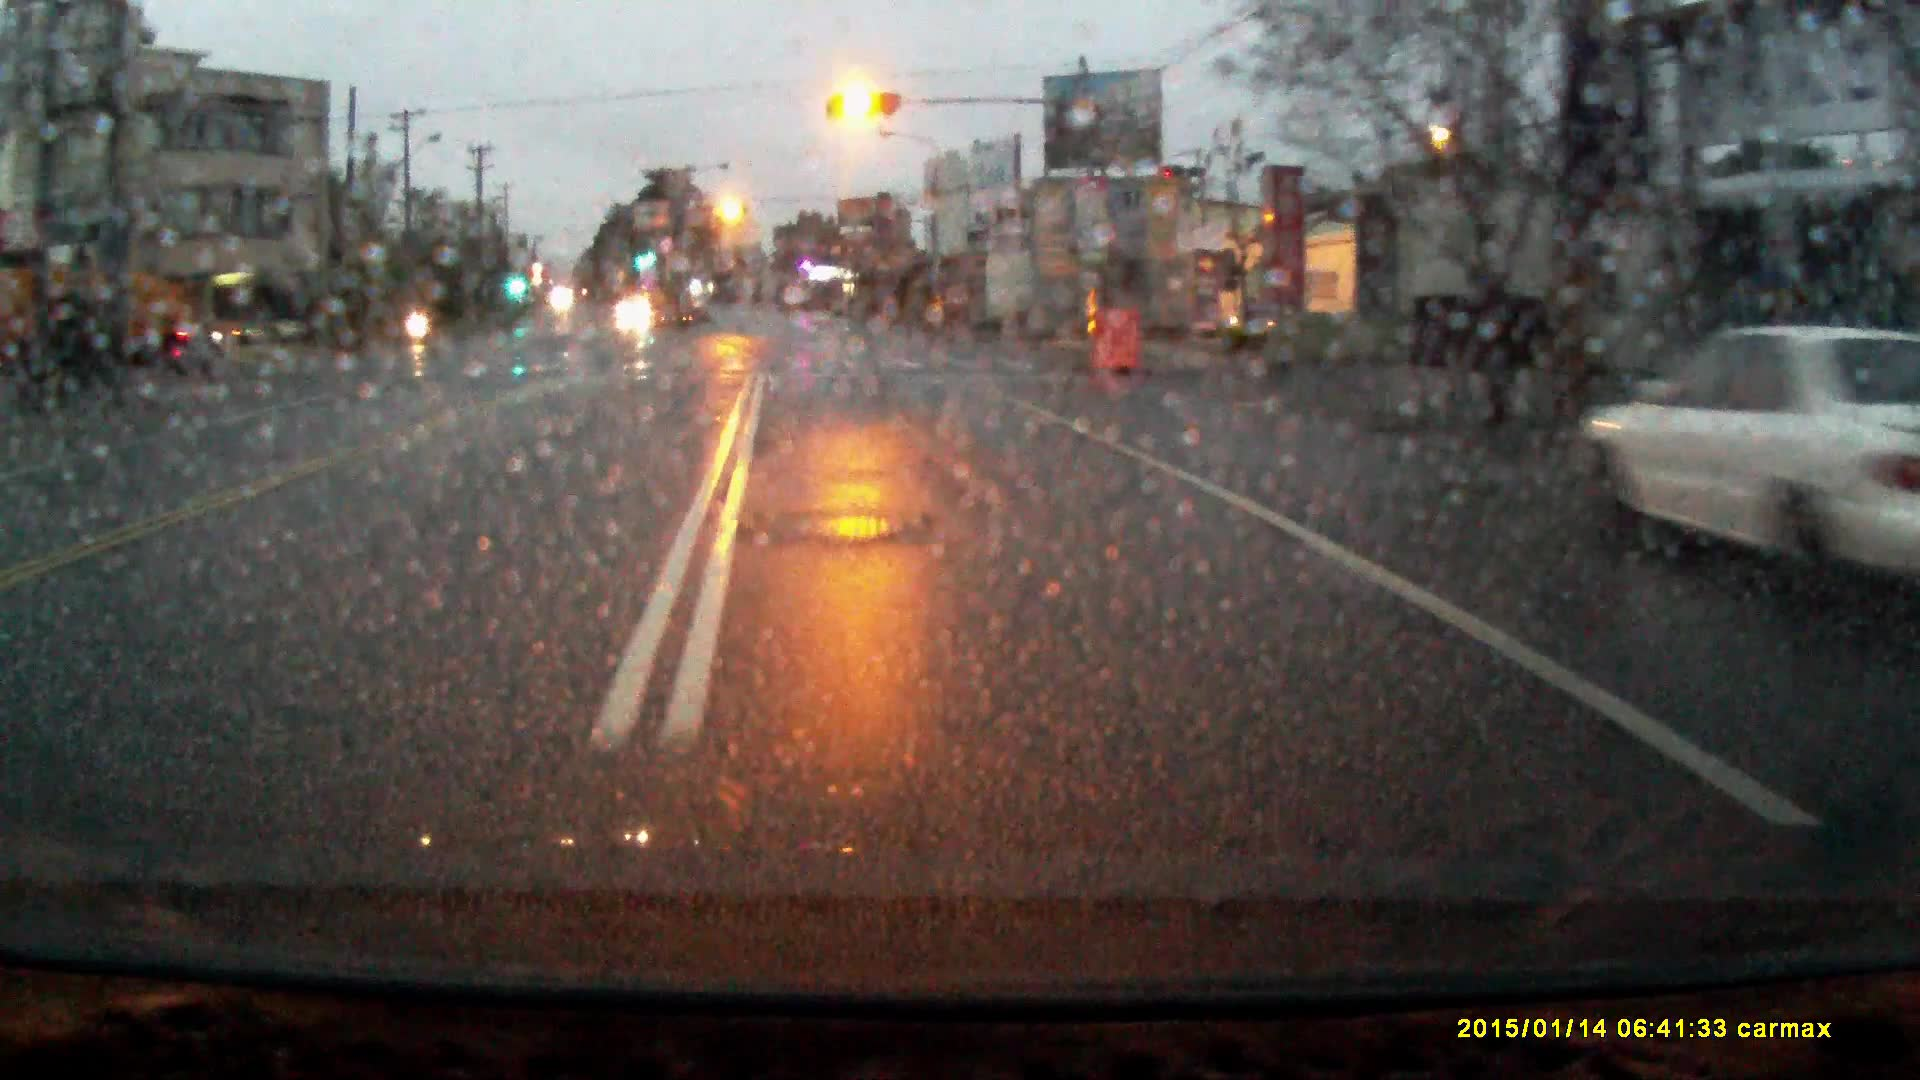rider: (404, 283, 433, 349)
vehicle: (1570, 329, 1920, 570), (1, 258, 209, 376), (616, 294, 653, 324)
